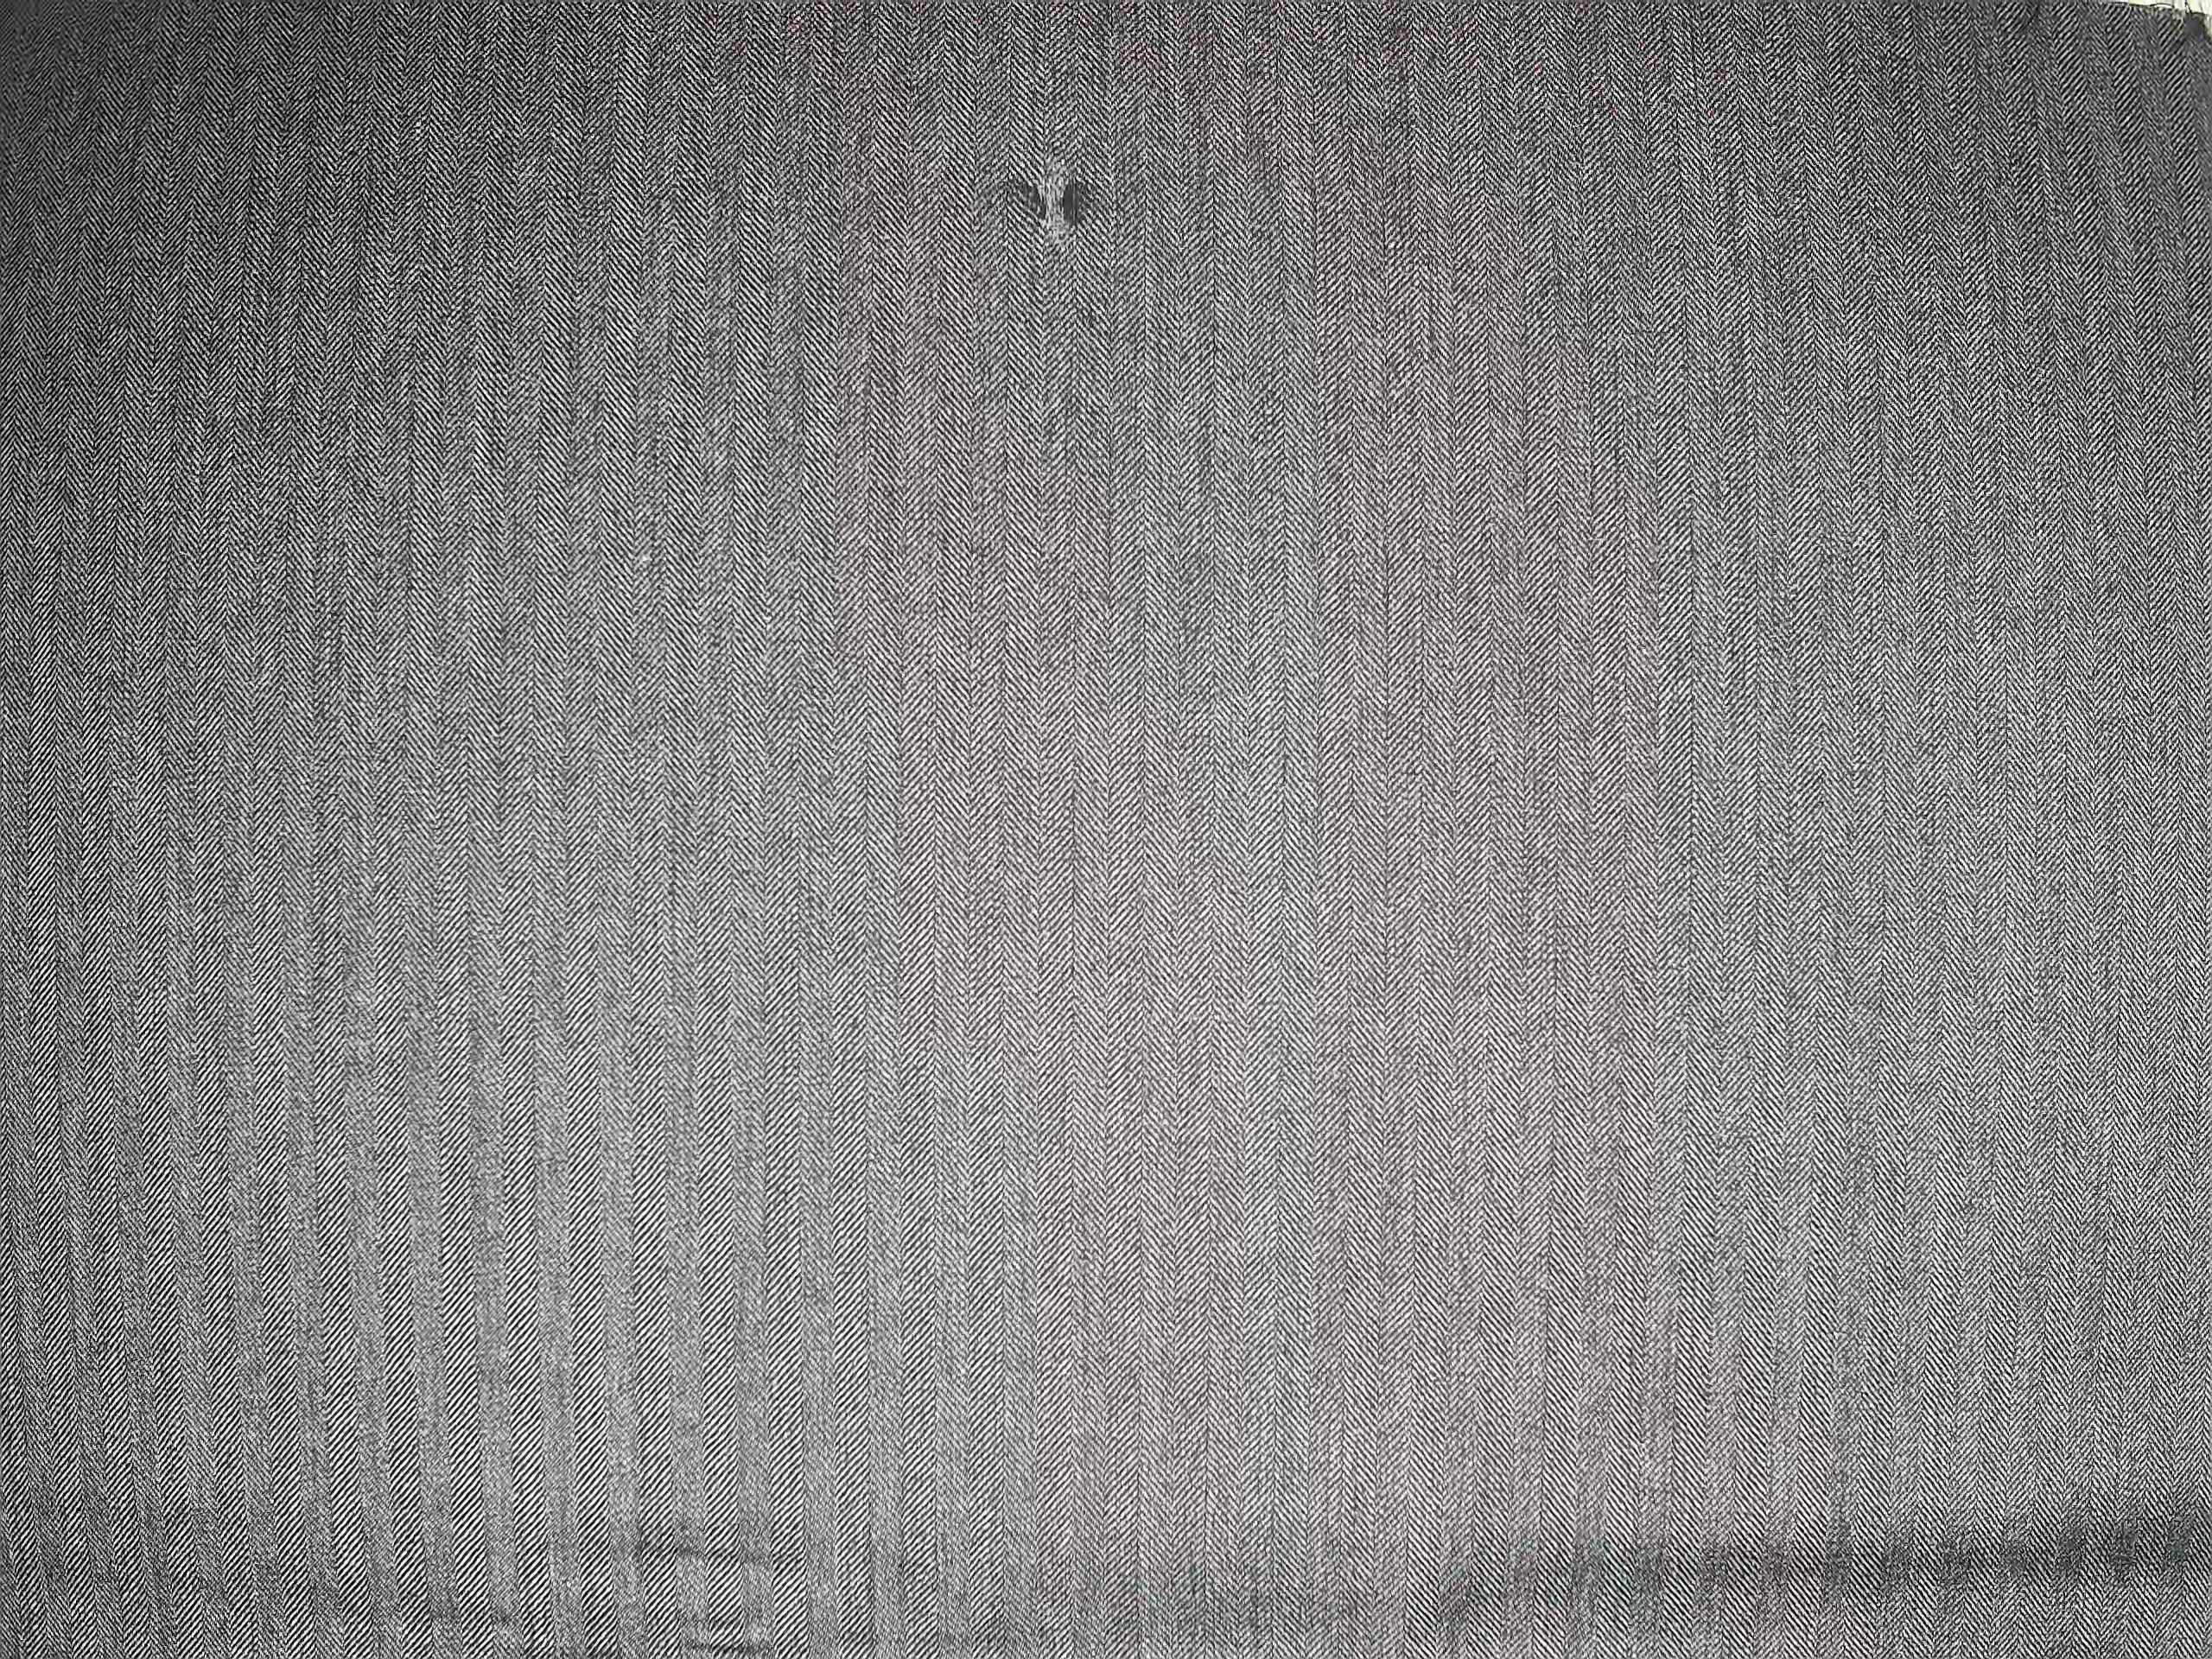rubbing-hole: (981, 129, 1127, 267)
